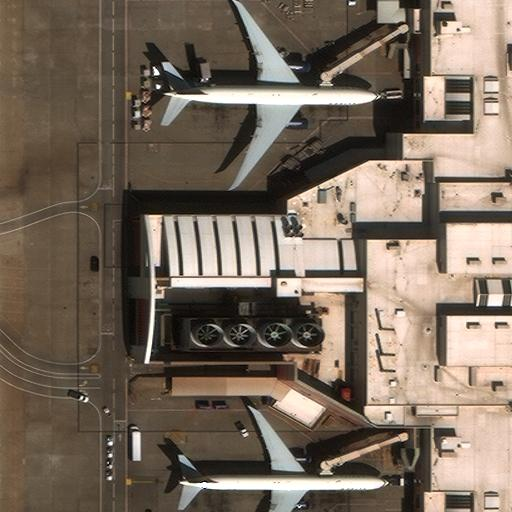Large Civil Transport: (163, 1, 381, 187), (178, 410, 389, 512)
